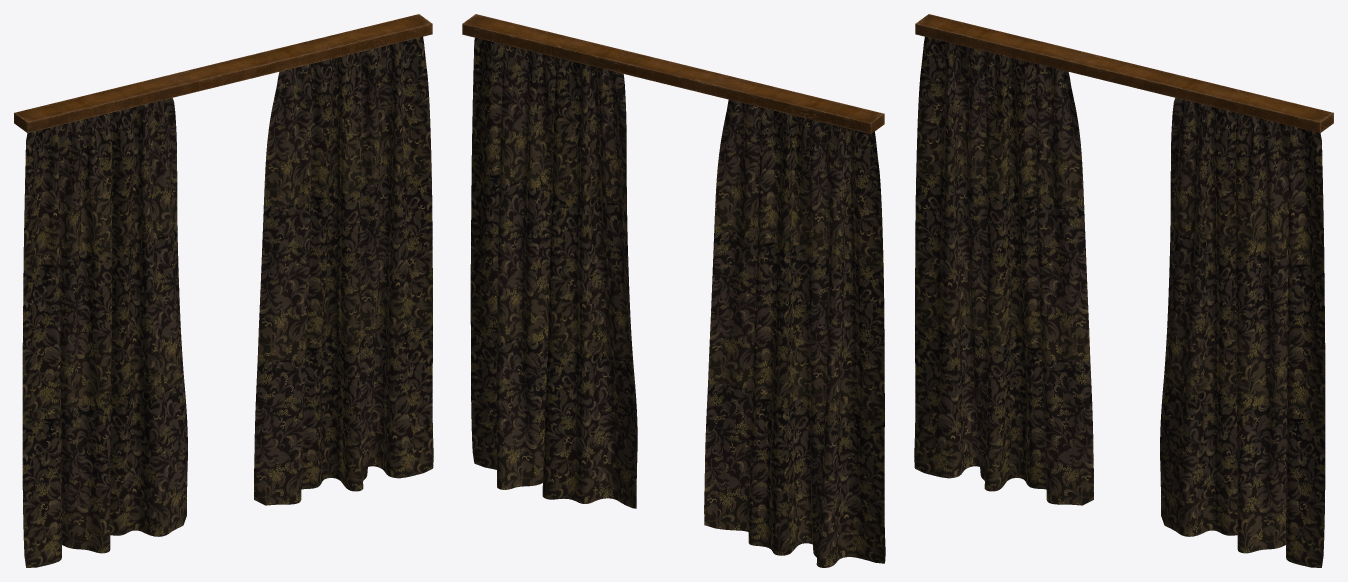
Rendered from curtains_11mb.glb.
The picture shows the model from 3 angles, left to right: view 1: azimuth 30°, elevation 25°; view 2: azimuth 150°, elevation 25°; view 3: azimuth 330°, elevation 25°; orthographic projection.
Visible parts, largest first — view 1: 01__0, 02__0, Base; view 2: 02__0, 01__0, Base; view 3: 02__0, 01__0, Base.
Part boxes in pixels (x1=…): 01__0: x1=254, y1=37, x2=433, y2=505; 02__0: x1=22, y1=98, x2=187, y2=567; Base: x1=14, y1=14, x2=432, y2=132; 02__0: x1=704, y1=99, x2=885, y2=567; 01__0: x1=470, y1=37, x2=637, y2=508; Base: x1=462, y1=14, x2=884, y2=134; 02__0: x1=914, y1=37, x2=1093, y2=505; 01__0: x1=1160, y1=98, x2=1325, y2=567; Base: x1=915, y1=14, x2=1333, y2=132.
Size of the model in its own units: 288 by 300 by 26.95.
1 material, 1 textured.
